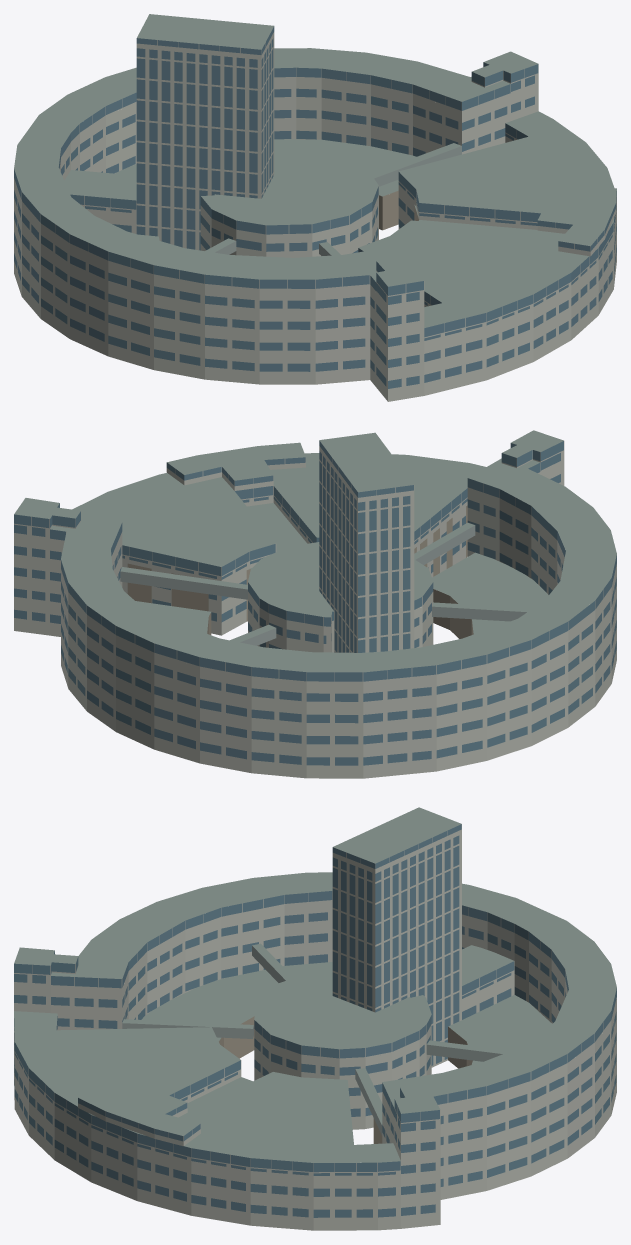
The model's file is maison-de-la-radio-far.glb.
3 views of the same model, one above another, from view 1: azimuth 30°, elevation 25°; view 2: azimuth 150°, elevation 25°; view 3: azimuth 270°, elevation 25° (orthographic).
Parts seen in each view (by area): view 1: maison-de-la-radio-0-frame, maison-de-la-radio-0-roof, maison-de-la-radio-0-glass, maison-de-la-radio-0-connector, maison-de-la-radio-0-studio; view 2: maison-de-la-radio-0-frame, maison-de-la-radio-0-roof, maison-de-la-radio-0-glass, maison-de-la-radio-0-connector, maison-de-la-radio-0-studio; view 3: maison-de-la-radio-0-roof, maison-de-la-radio-0-frame, maison-de-la-radio-0-glass, maison-de-la-radio-0-connector, maison-de-la-radio-0-studio.
Boxes of the visible parts, x1=… form: maison-de-la-radio-0-frame: x1=14, y1=32, x2=616, y2=401; maison-de-la-radio-0-roof: x1=14, y1=14, x2=616, y2=327; maison-de-la-radio-0-glass: x1=14, y1=26, x2=616, y2=388; maison-de-la-radio-0-connector: x1=215, y1=146, x2=461, y2=255; maison-de-la-radio-0-studio: x1=379, y1=190, x2=418, y2=230; maison-de-la-radio-0-frame: x1=14, y1=441, x2=616, y2=778; maison-de-la-radio-0-roof: x1=14, y1=430, x2=616, y2=672; maison-de-la-radio-0-glass: x1=14, y1=441, x2=616, y2=765; maison-de-la-radio-0-connector: x1=120, y1=525, x2=526, y2=645; maison-de-la-radio-0-studio: x1=127, y1=505, x2=473, y2=638; maison-de-la-radio-0-roof: x1=14, y1=807, x2=616, y2=1162; maison-de-la-radio-0-frame: x1=14, y1=824, x2=616, y2=1230; maison-de-la-radio-0-glass: x1=14, y1=824, x2=616, y2=1217; maison-de-la-radio-0-connector: x1=122, y1=946, x2=502, y2=1135; maison-de-la-radio-0-studio: x1=219, y1=1016, x2=472, y2=1143.
Bounding box in the file's own units: 161 × 68 × 162.
